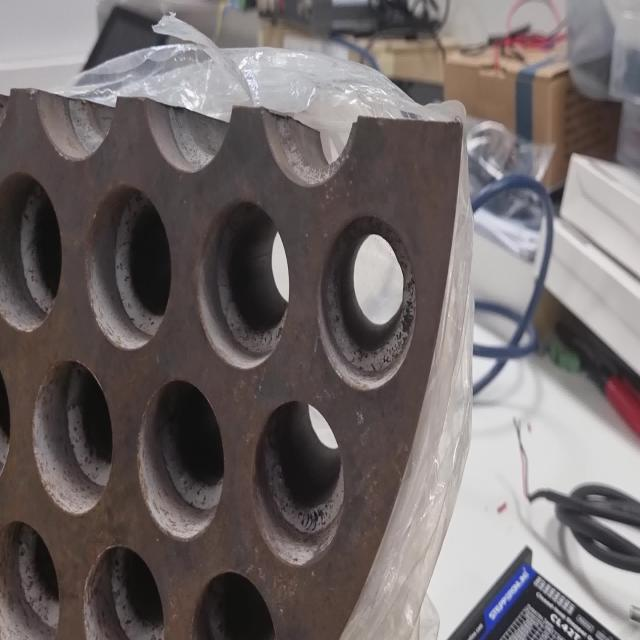Hole: (319, 210, 420, 389), (196, 200, 290, 370), (253, 398, 345, 568), (85, 184, 172, 350), (138, 378, 225, 541), (32, 360, 112, 516), (0, 169, 63, 333), (82, 543, 165, 640), (0, 519, 60, 639), (192, 568, 278, 640)
